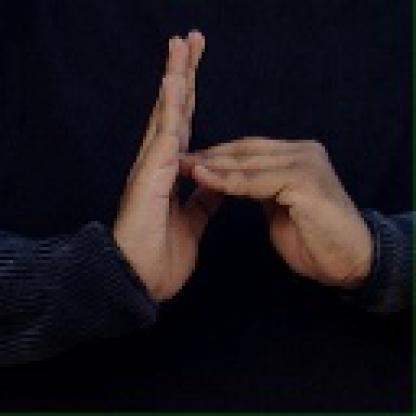Z: (112, 24, 352, 289)
